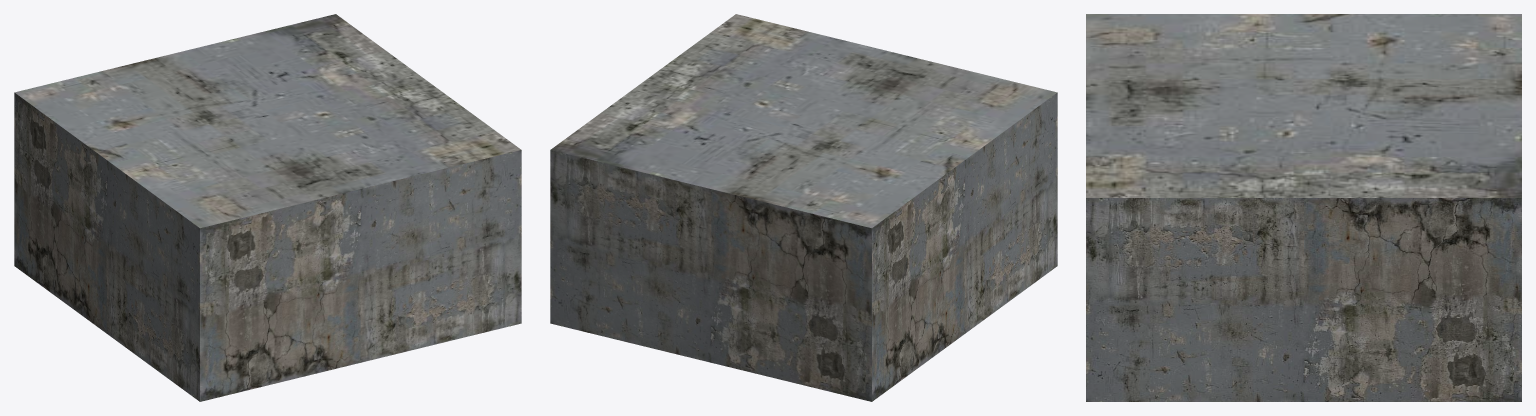
The model's file is wall.fbx.
3 renders of one model, left to right at view 1: azimuth 30°, elevation 25°; view 2: azimuth 150°, elevation 25°; view 3: azimuth 270°, elevation 25°, orthographic. The views are drawn at different scales.
Visible parts, largest first — view 1: wall; view 2: wall; view 3: wall.
Boxes of the visible parts, x1,y1,x2,y2 form: wall: (14, 14, 521, 401); wall: (550, 14, 1057, 401); wall: (1086, 14, 1521, 401).
Size of the model in its own units: 586 by 302 by 586.
